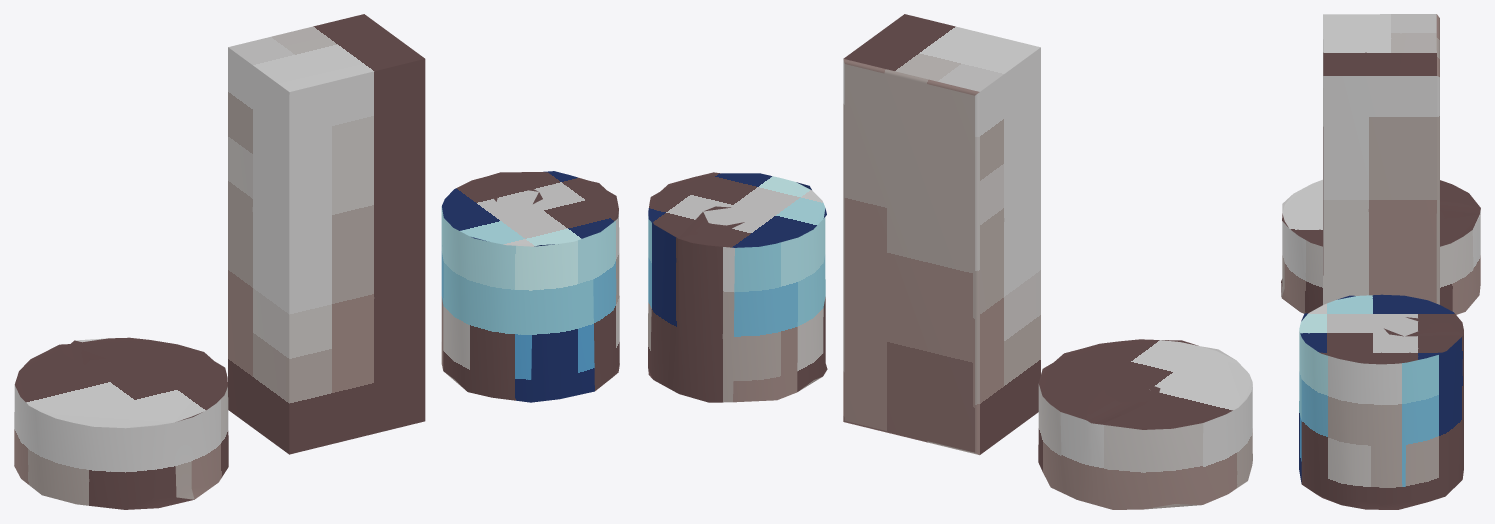
Rendered from russian_food_cans_01.glb.
3 views of the same model, side by side, from view 1: azimuth 30°, elevation 25°; view 2: azimuth 150°, elevation 25°; view 3: azimuth 270°, elevation 25° (orthographic). The views are drawn at different scales.
Visible parts, largest first — view 1: mesh; view 2: mesh; view 3: mesh.
Boxes of the visible parts, left/top/right/bottom form: mesh: left=14, top=14, right=619, bottom=509; mesh: left=648, top=14, right=1252, bottom=509; mesh: left=1281, top=14, right=1480, bottom=509.
Size of the model in its own units: 0.1418 by 0.0849 by 0.0456.
Materials: 1 (1 with a texture image).
